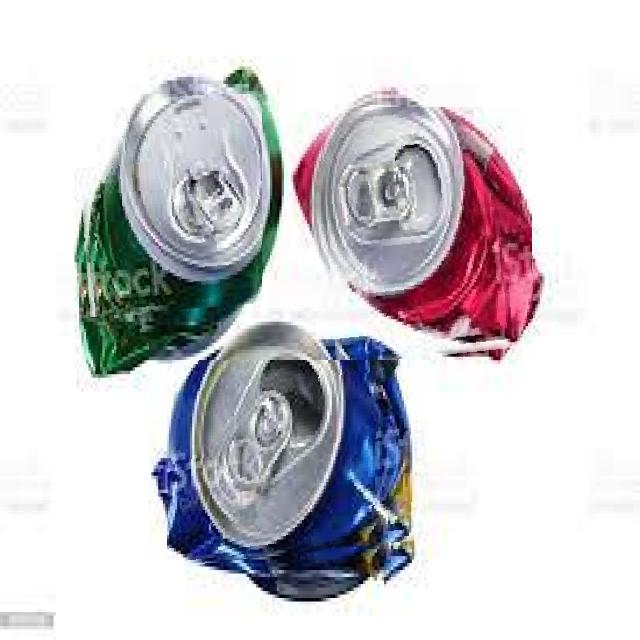Cans: (319, 107, 532, 366), (167, 360, 427, 568), (74, 94, 262, 317)
